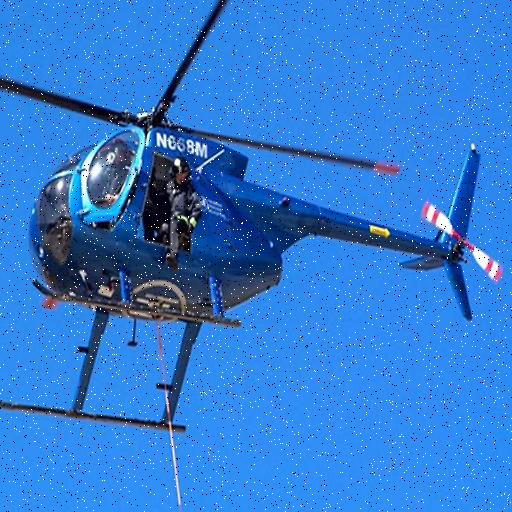helicopter: (1, 1, 490, 434)
